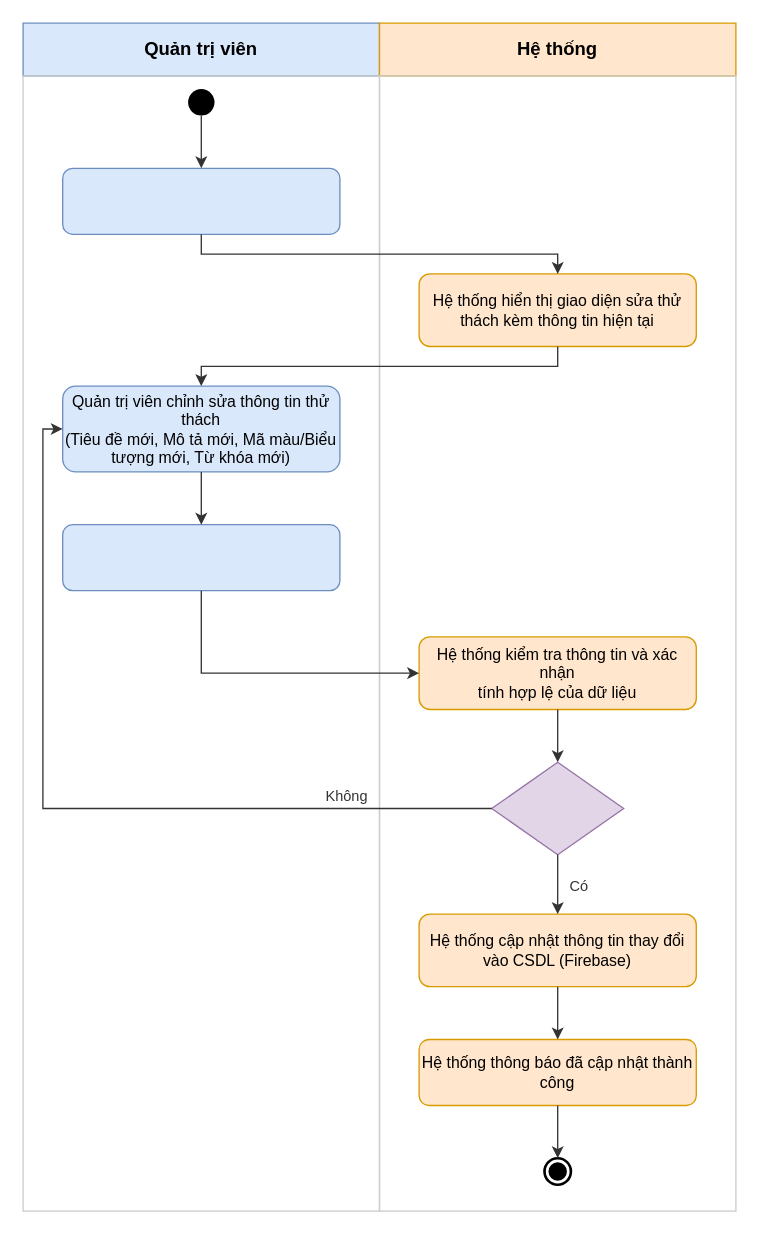
Some shapes in this 759 by 1234 pixel diagram are drawn without their labels. The shapes that lost their labels are listed below. From the top down, each one's centre as x and y in pixels, then its label:
(200,200): Quản trị viên chọn thử thách cần sửa và nhấn nút "Sửa"
(200,557): Quản trị viên nhấn nút Lưu
(557,808): Dữ liệu hợp lệ?
